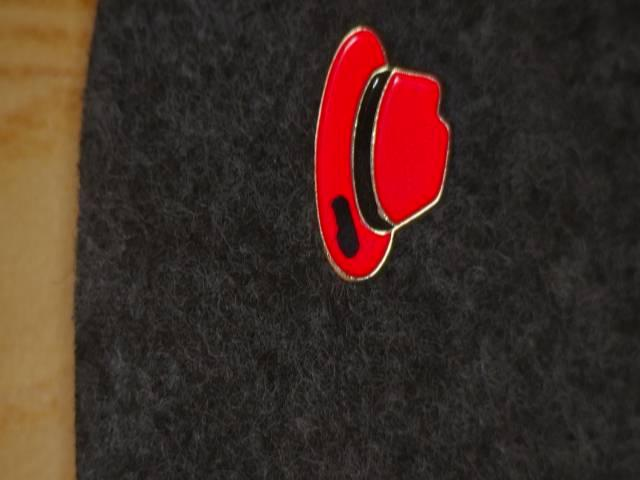Red-Hat: (305, 8, 460, 306)
Scratch: (322, 179, 379, 275)
